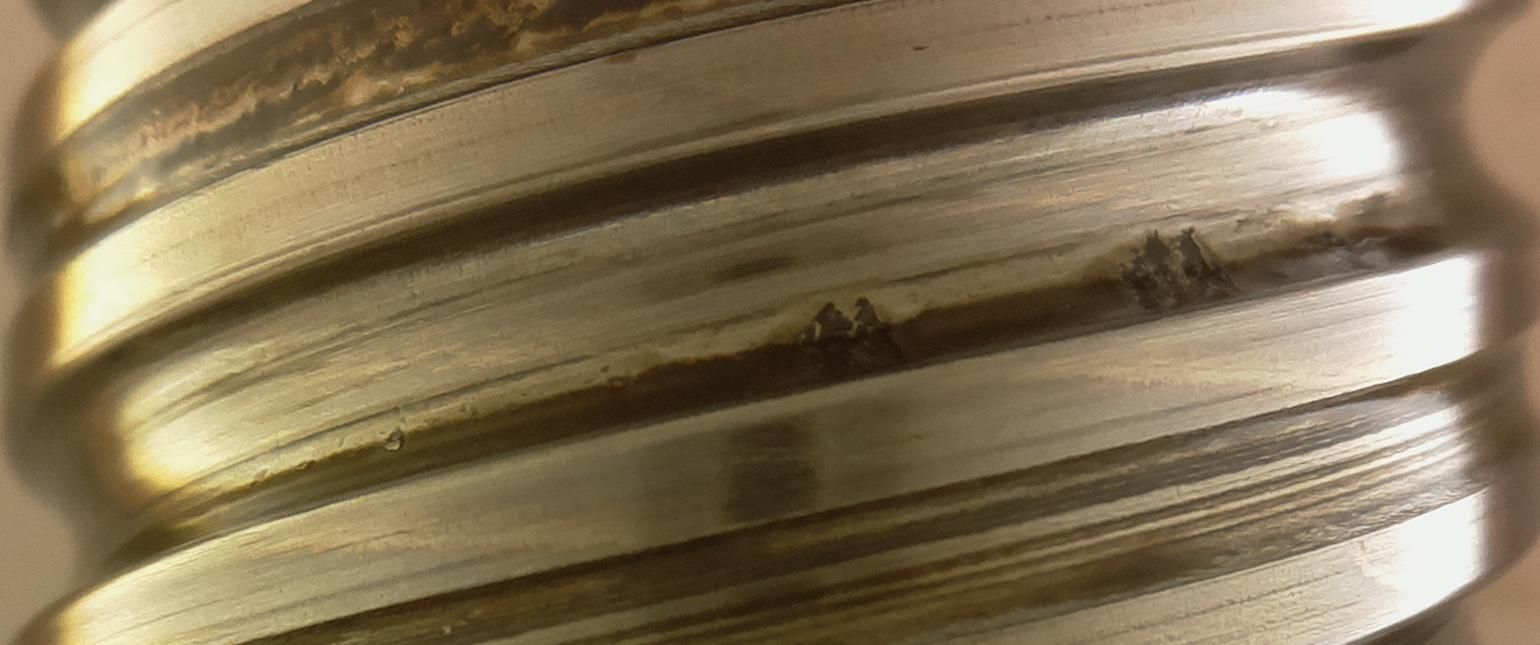pitting: (797, 297, 915, 387), (1122, 226, 1238, 315)
